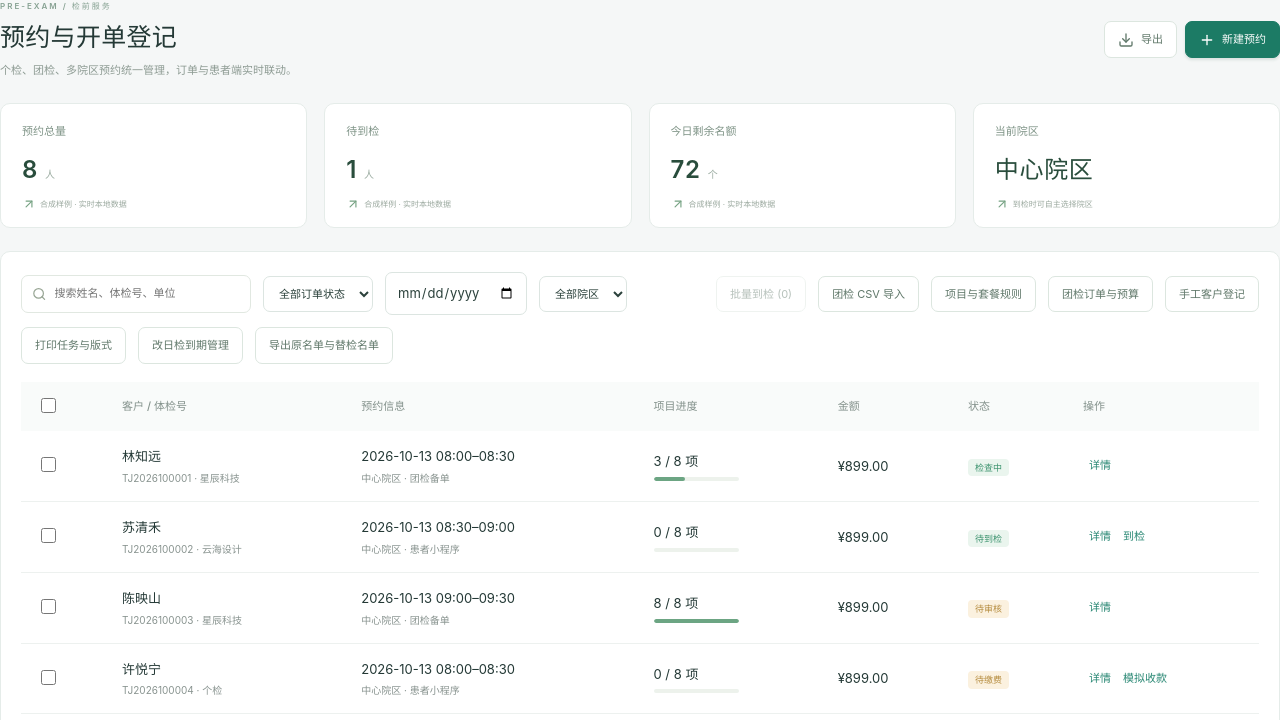
Test: appointment source actions audit and group identity integration › T0050 phone source is persisted and filters only the matching orders
Step 1. Click the button "新建预约" → (1232, 40), box x1=1185 y1=21 x2=1279 y2=58
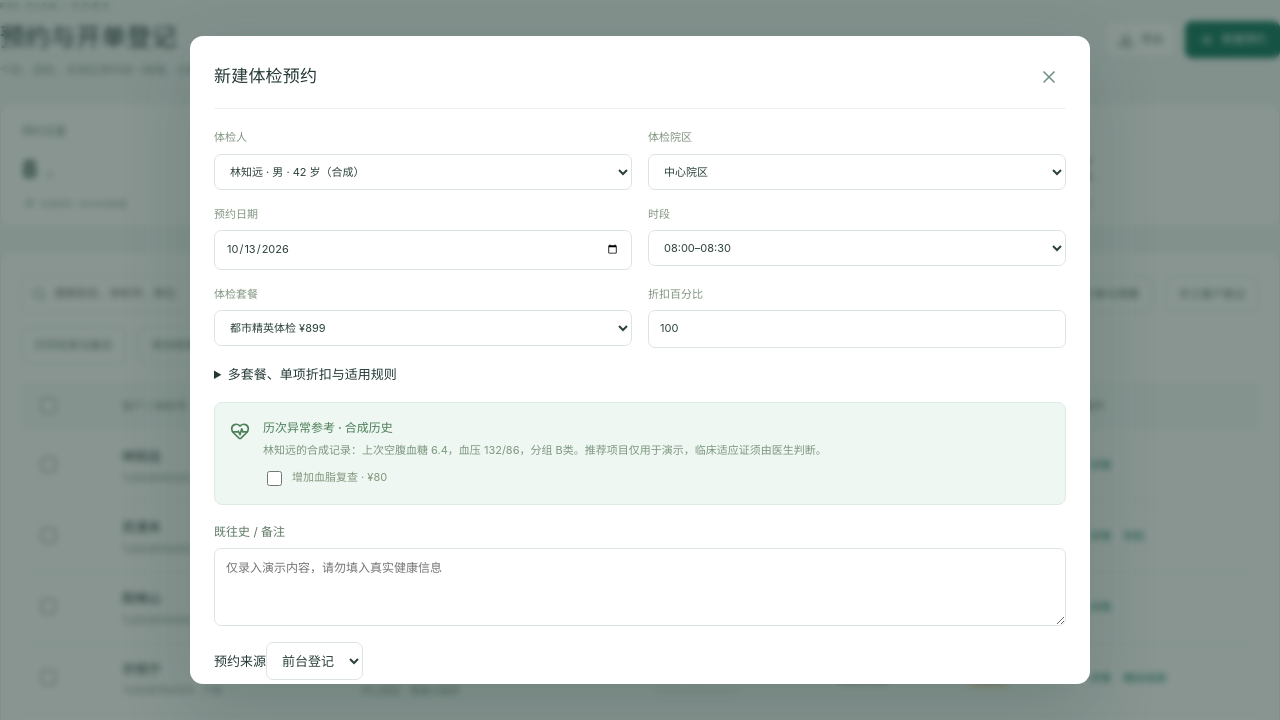
Step 2. Select "电话预约" in the dropdown labelled "预约来源" → (314, 661), box x1=266 y1=642 x2=363 y2=680
(page scrolled)
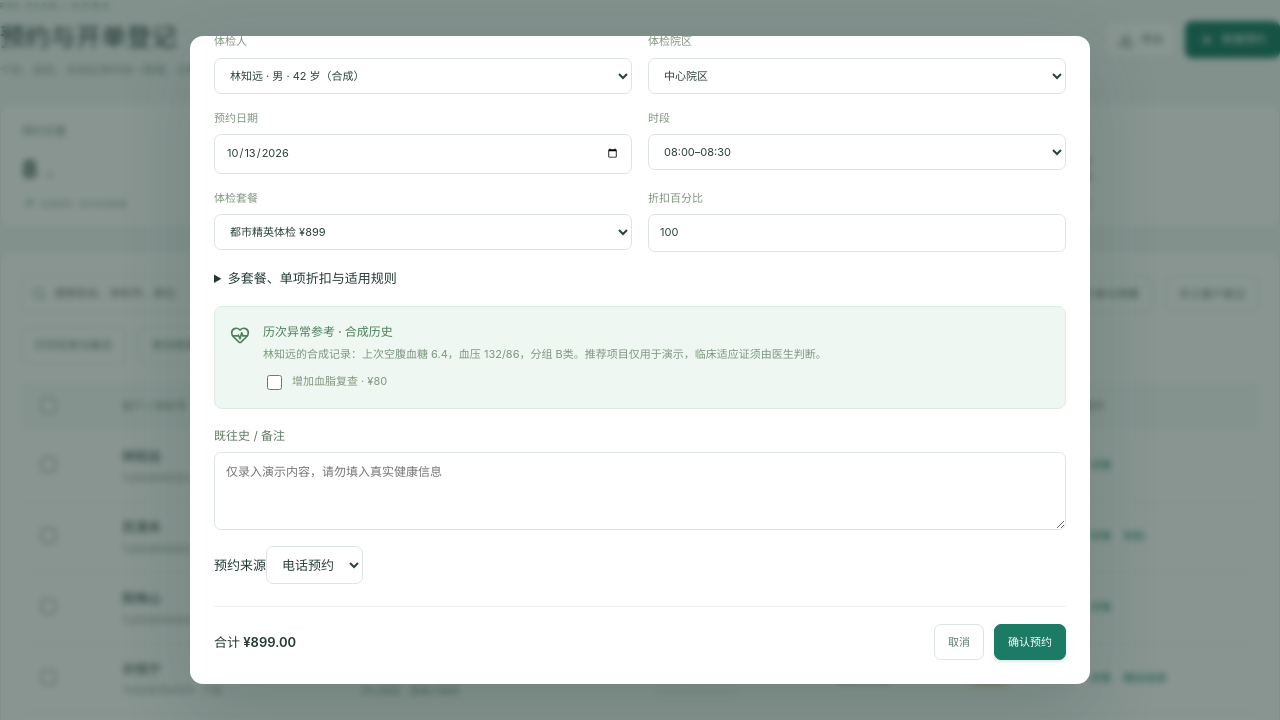
Step 3. Click the button "确认预约" → (1030, 642), box x1=994 y1=624 x2=1066 y2=660
(page scrolled)
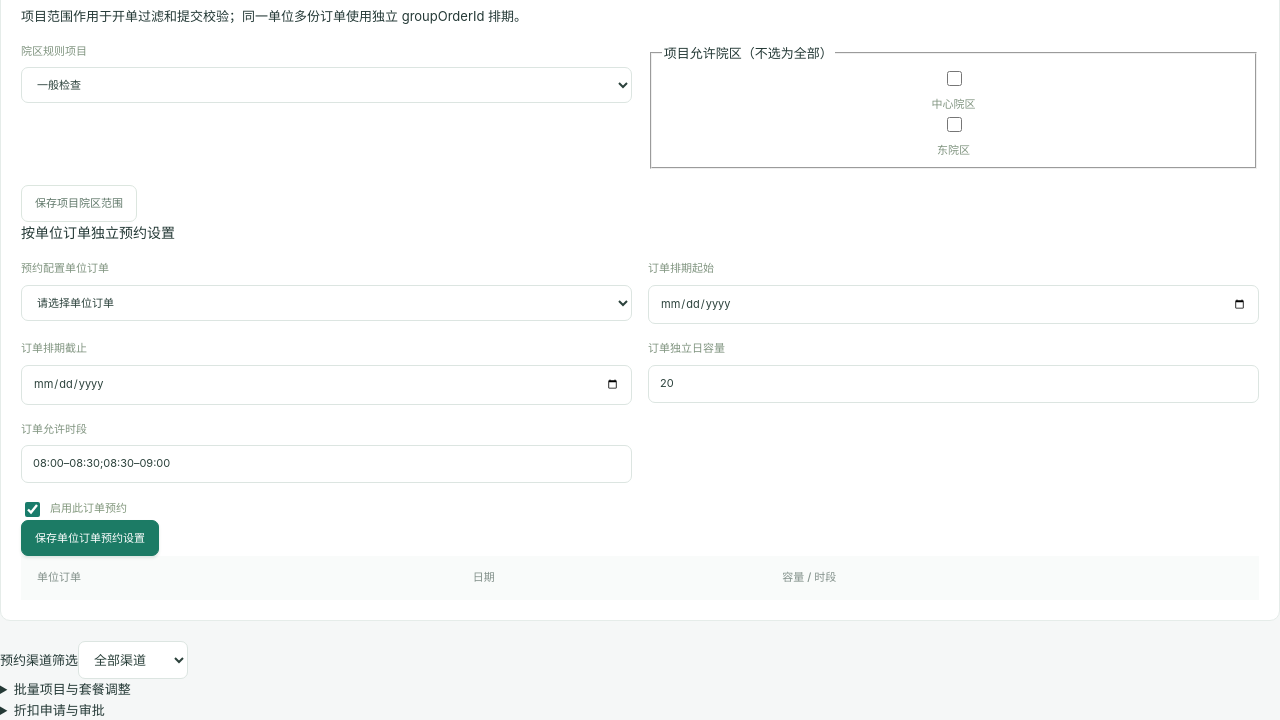
Step 4. Select "电话预约" in the dropdown labelled "预约渠道筛选" → (133, 660), box x1=78 y1=641 x2=188 y2=679
(page scrolled)
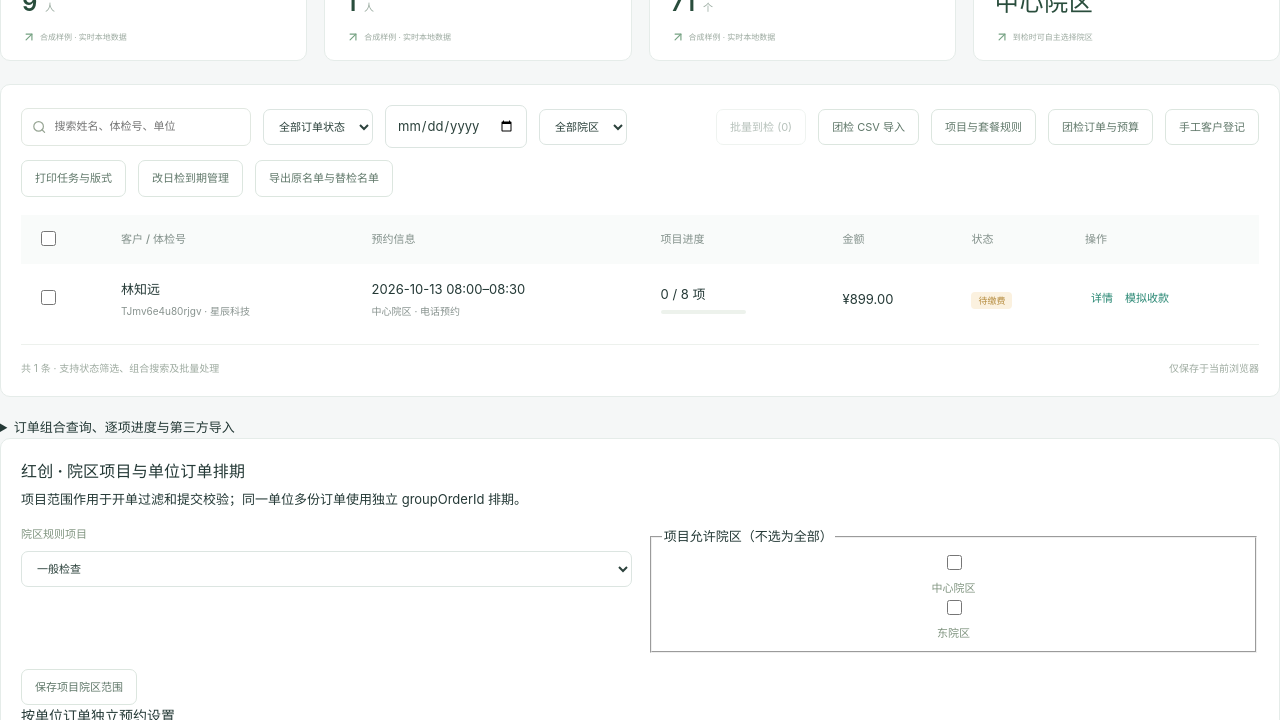
Expected: the text "共 1 条 · 支持状态筛选、组合搜索及批量处理 仅保存于当前浏览器" is shown, x1=21 y1=344 x2=1259 y2=376
